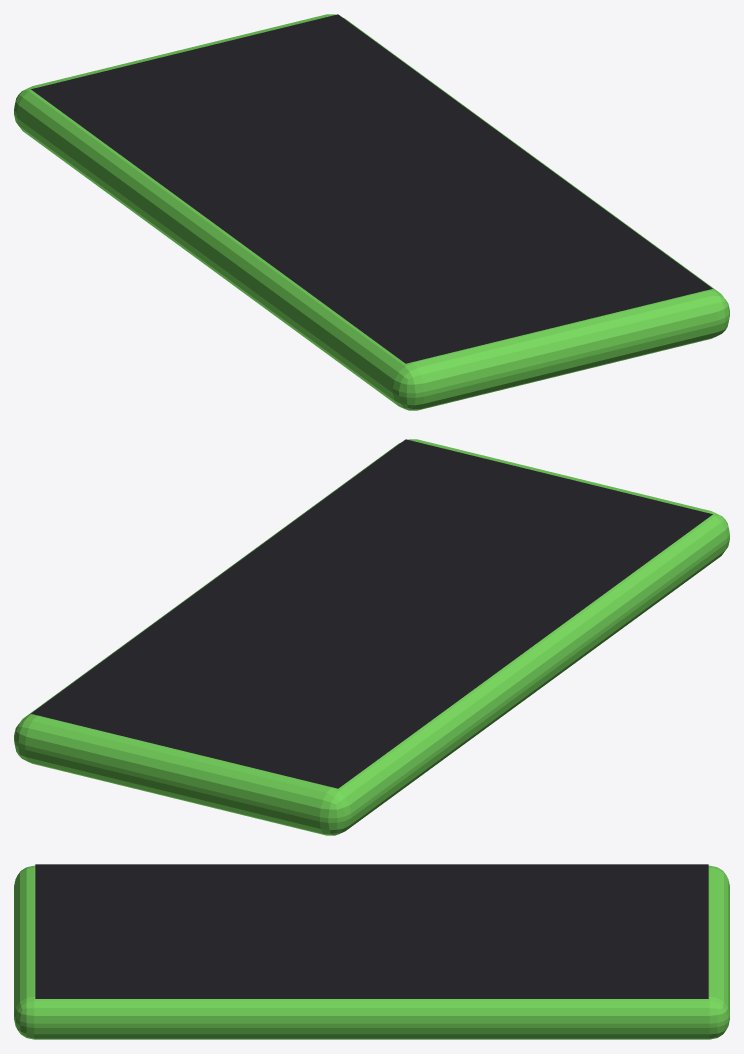
Rendered from Phone_751.glb.
3 views of the same model, one above another, from view 1: azimuth 30°, elevation 25°; view 2: azimuth 150°, elevation 25°; view 3: azimuth 270°, elevation 25° (orthographic). The views are drawn at different scales.
Visible parts, largest first — view 1: Phone_Screen, Phone_Body; view 2: Phone_Screen, Phone_Body; view 3: Phone_Screen, Phone_Body.
Boxes of the visible parts, x1=… form: Phone_Screen: x1=31, y1=14, x2=712, y2=363; Phone_Body: x1=14, y1=14, x2=729, y2=410; Phone_Screen: x1=31, y1=439, x2=712, y2=788; Phone_Body: x1=14, y1=439, x2=729, y2=835; Phone_Screen: x1=35, y1=864, x2=708, y2=998; Phone_Body: x1=14, y1=865, x2=729, y2=1039.
Bounding box in the file's own units: 0.0753 × 0.01 × 0.1557.
